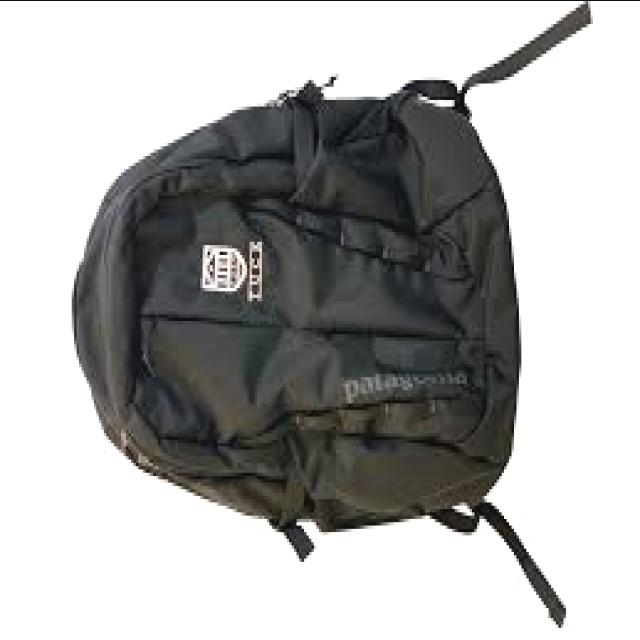backpack: (70, 4, 592, 631)
